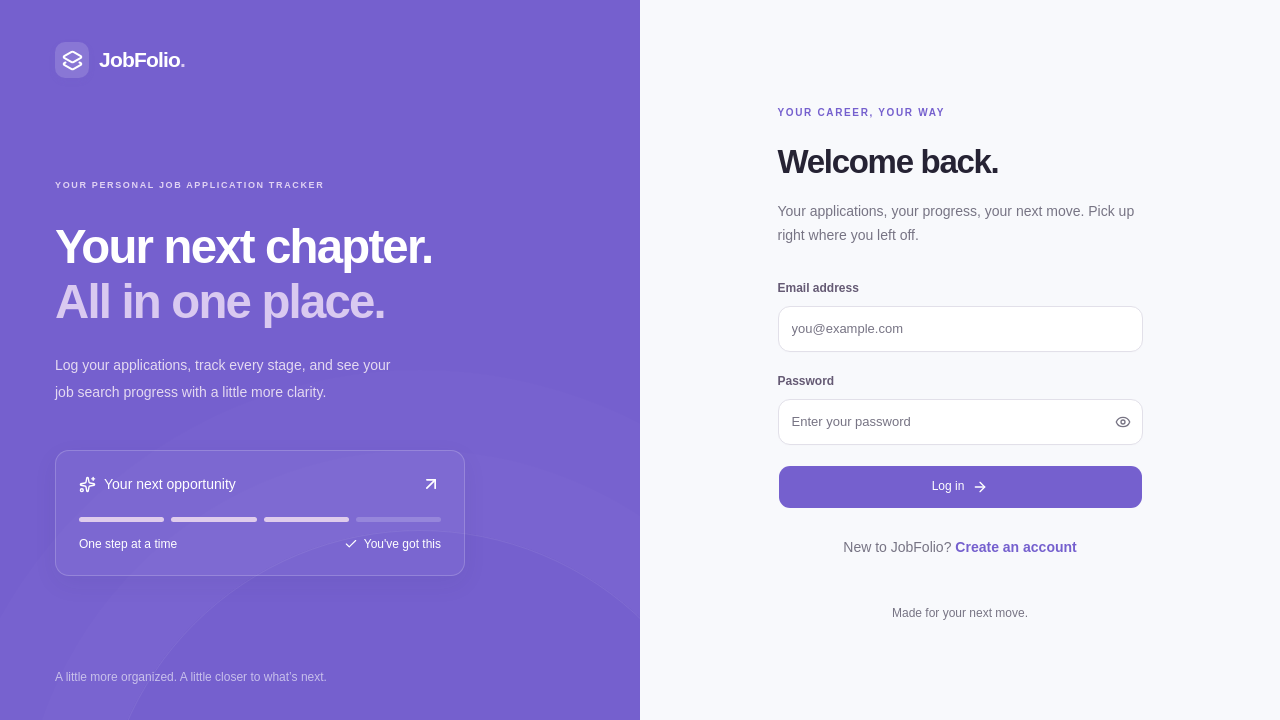
LoginPage › rejects an invalid email without making a login request
In the field labelled "Email address": (960, 329) [778, 306, 1142, 352], type "invalid-email"
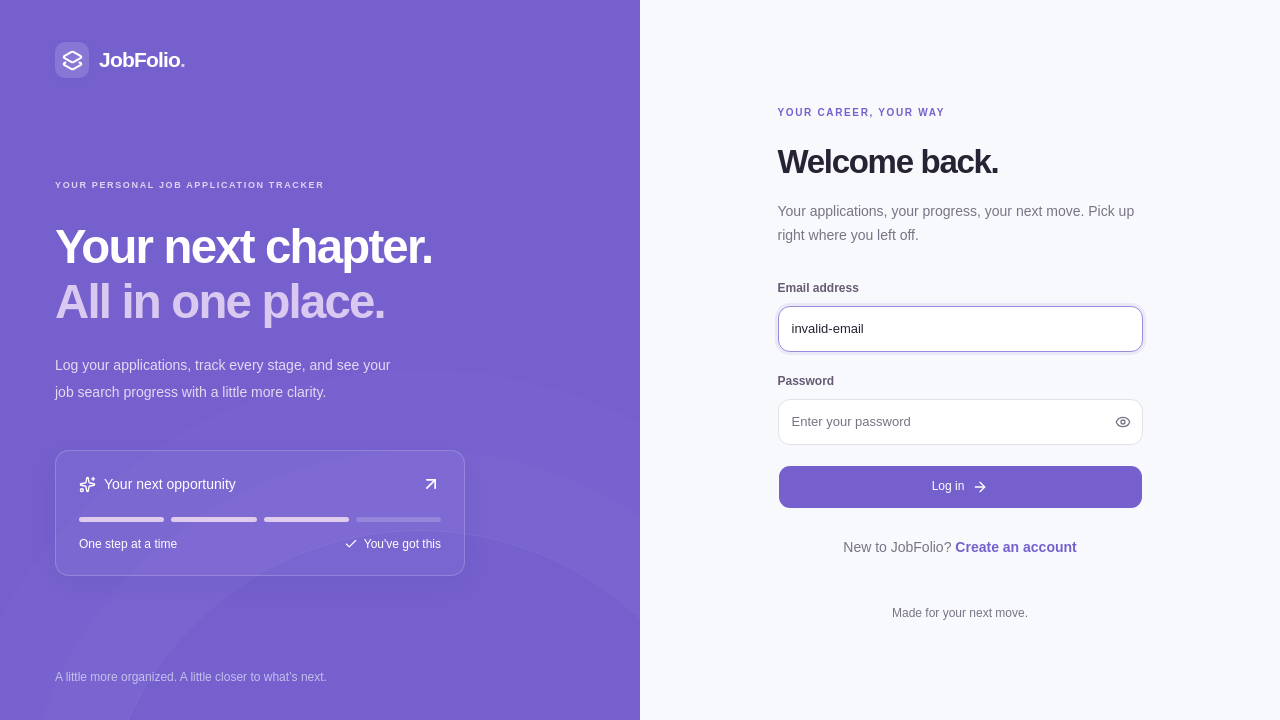
In the password field with placeholder "Enter your password": (960, 422) [778, 399, 1142, 445], type "password123"
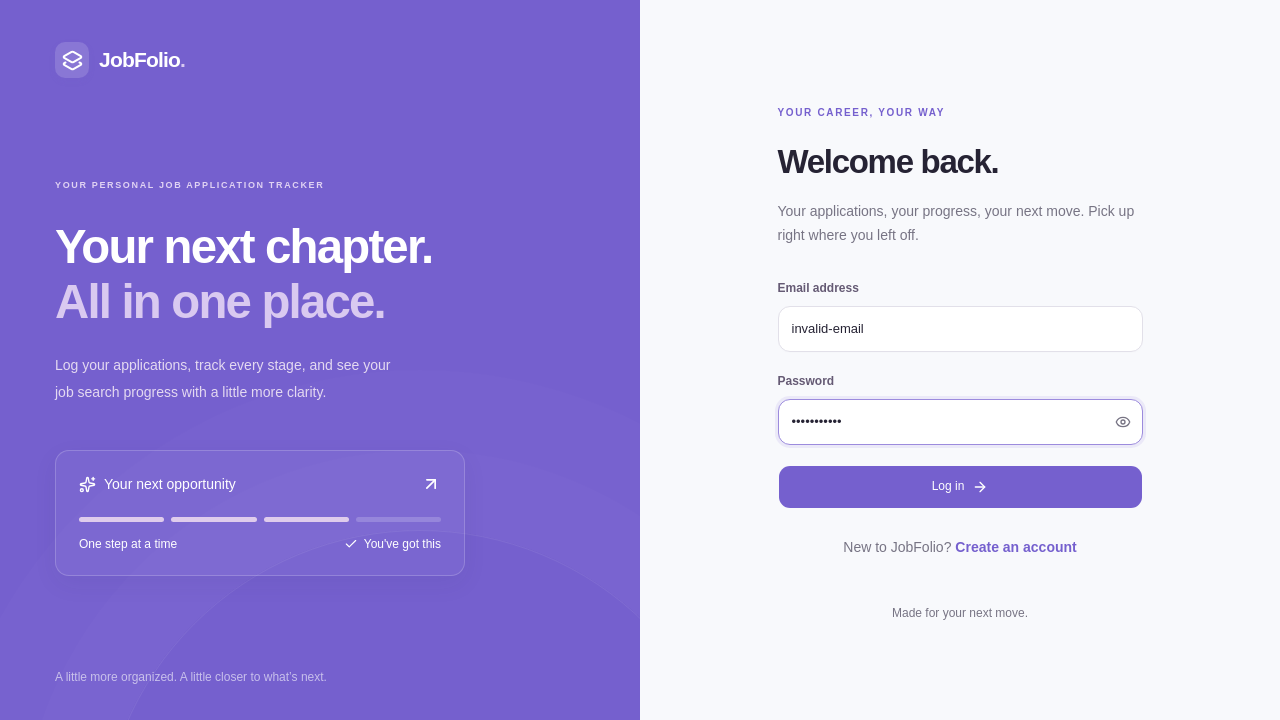
Click the button "Log in": (960, 487) [778, 465, 1142, 509]
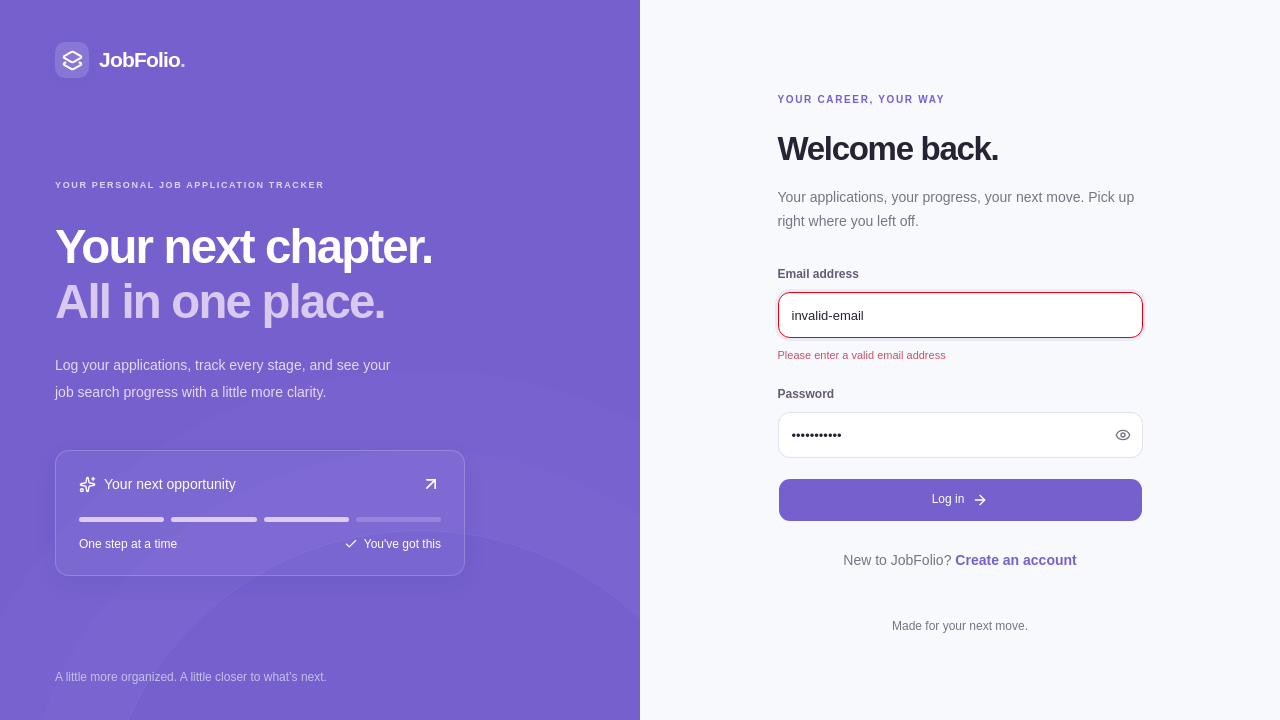
Check: the text "Please enter a valid email address" is shown, box [778, 350, 946, 362]
